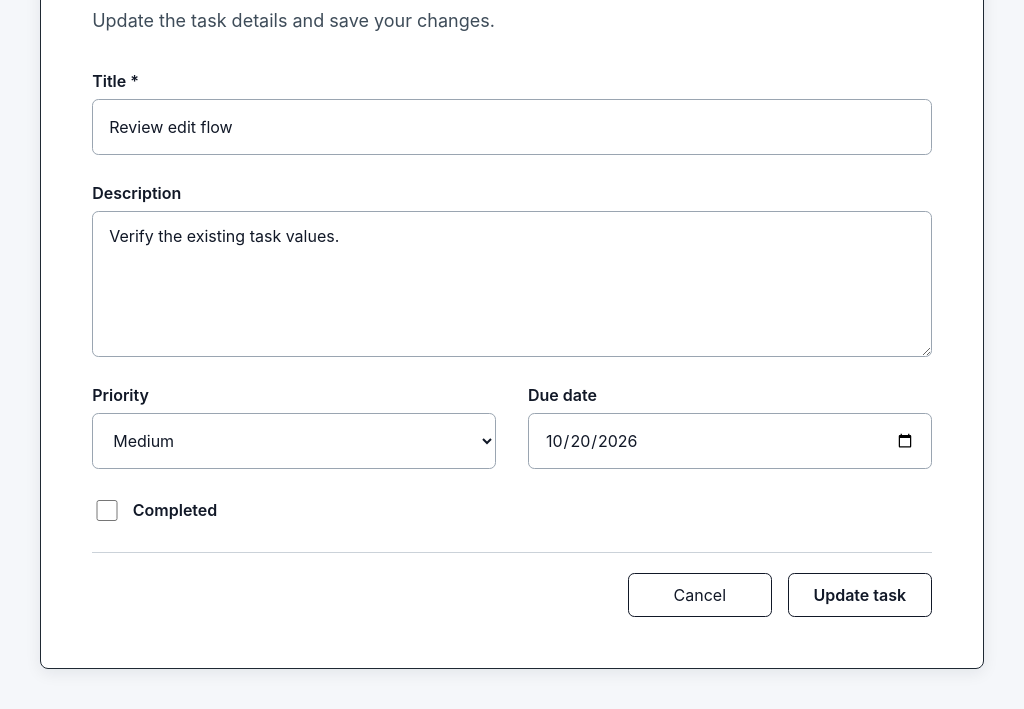
TaskEditPage › shows the fallback update failure when no message is available
The image size is (1024, 709).
(page scrolled)
Check: the field labelled "Title *" is shown, box x1=92 y1=99 x2=932 y2=155
Click the button "Update task" at [860, 595], box x1=788 y1=573 x2=932 y2=617
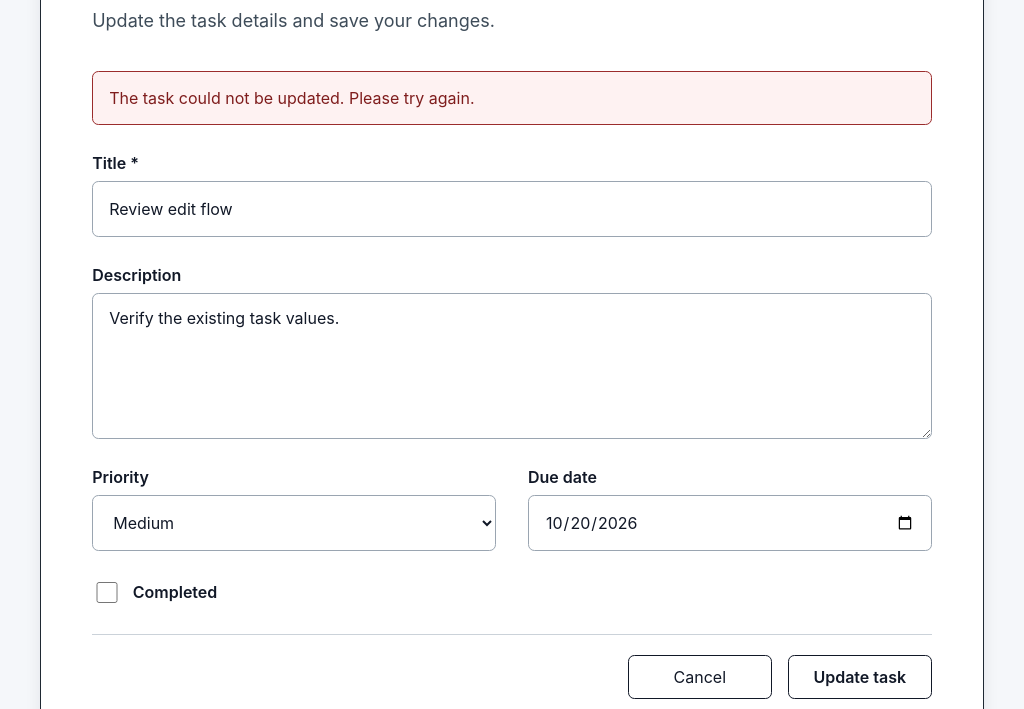
Check: the message reads "The task could not be updated. Please try again.", box x1=109 y1=88 x2=474 y2=108
